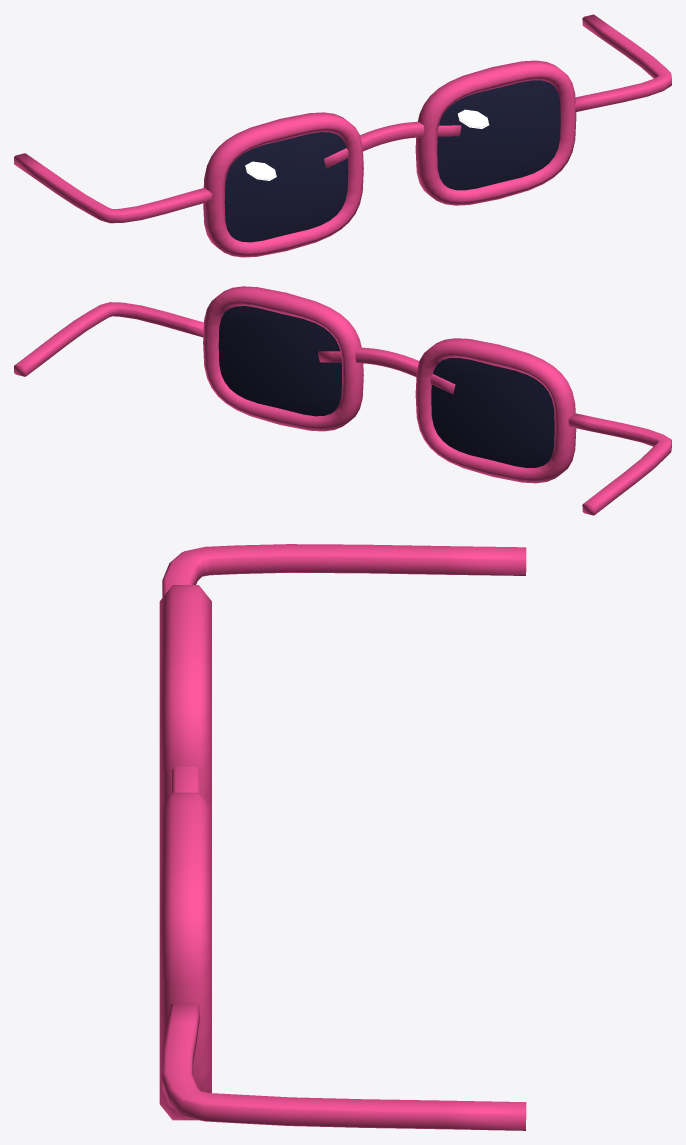
Rendered from sunglasses-lion.glb.
3 views of the same model, one above another, from view 1: azimuth 30°, elevation 25°; view 2: azimuth 150°, elevation 25°; view 3: azimuth 270°, elevation 25° (orthographic). The views are drawn at different scales.
Parts seen in each view (by area): view 1: lens, lens.001, rim, rim.001, temple.001, temple, bridge, shine.001, shine; view 2: lens.001, lens, rim.001, rim, temple, temple.001, bridge; view 3: rim, temple, temple.001, rim.001.
Boxes of the visible parts, x1,y1,x2,y2 form: lens: [437, 80, 560, 190]; lens.001: [224, 132, 348, 242]; rim: [415, 60, 576, 205]; rim.001: [203, 112, 363, 257]; temple.001: [14, 153, 211, 223]; temple: [575, 14, 671, 111]; bridge: [324, 121, 461, 168]; shine.001: [245, 161, 276, 180]; shine: [458, 109, 489, 128]; lens.001: [431, 358, 554, 467]; lens: [218, 306, 341, 416]; rim.001: [415, 338, 576, 483]; rim: [203, 286, 363, 431]; temple: [14, 302, 203, 376]; temple.001: [568, 413, 671, 515]; bridge: [318, 347, 455, 394]; rim: [159, 792, 211, 1120]; temple: [162, 1003, 526, 1130]; temple.001: [162, 544, 526, 597]; rim.001: [159, 585, 211, 808].
Size of the model in its own units: 1.33 by 0.2784 by 0.3633.
